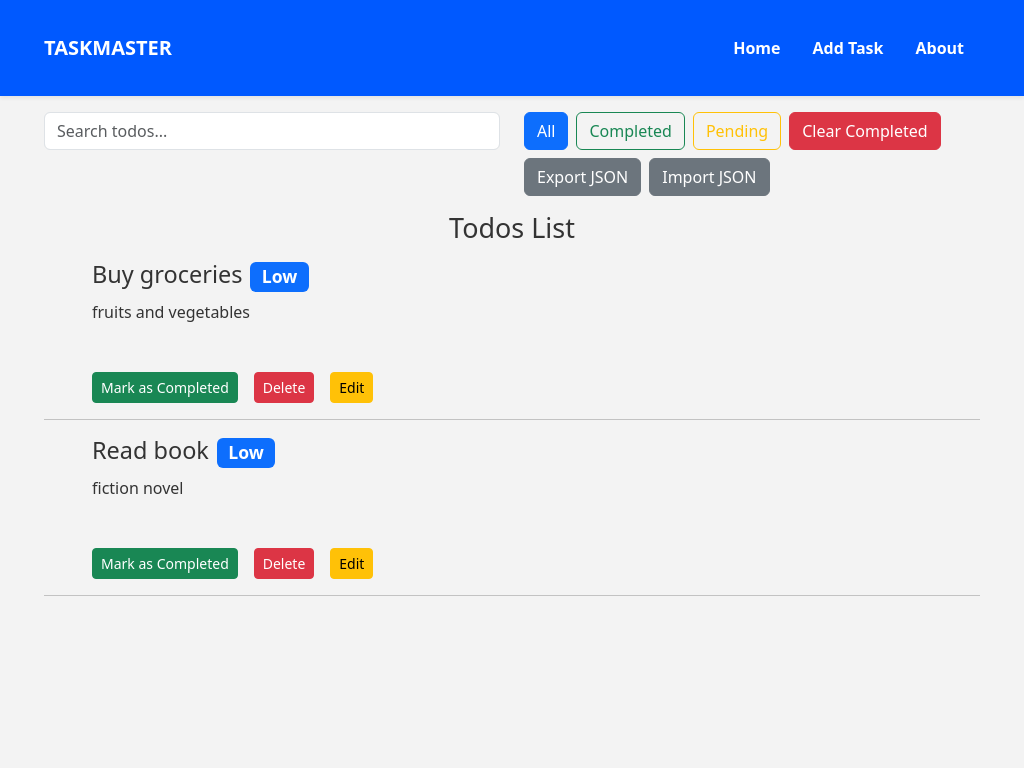
Test case: App – Search › filters todos by description
Type "fiction" into the field with placeholder "Search todos...".
click(272, 131); type("fiction")  # box [44, 112, 500, 150]
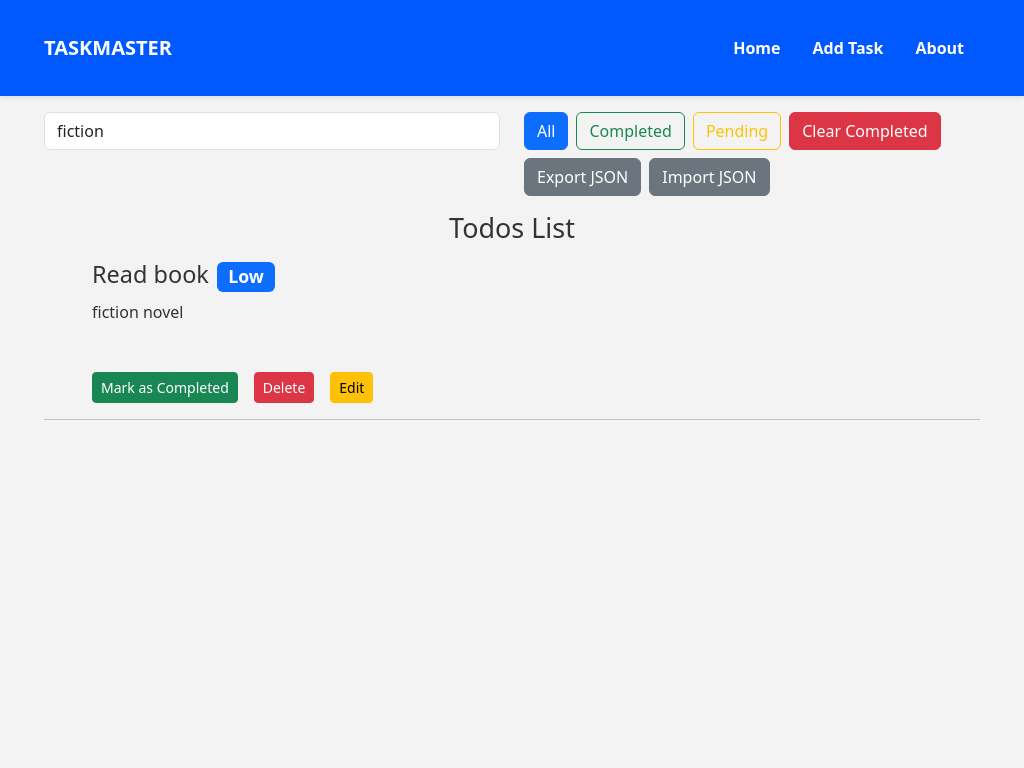
Check: the heading "Read book Low" is shown, box [92, 258, 275, 292]
Check: the heading "Buy groceries" is gone
